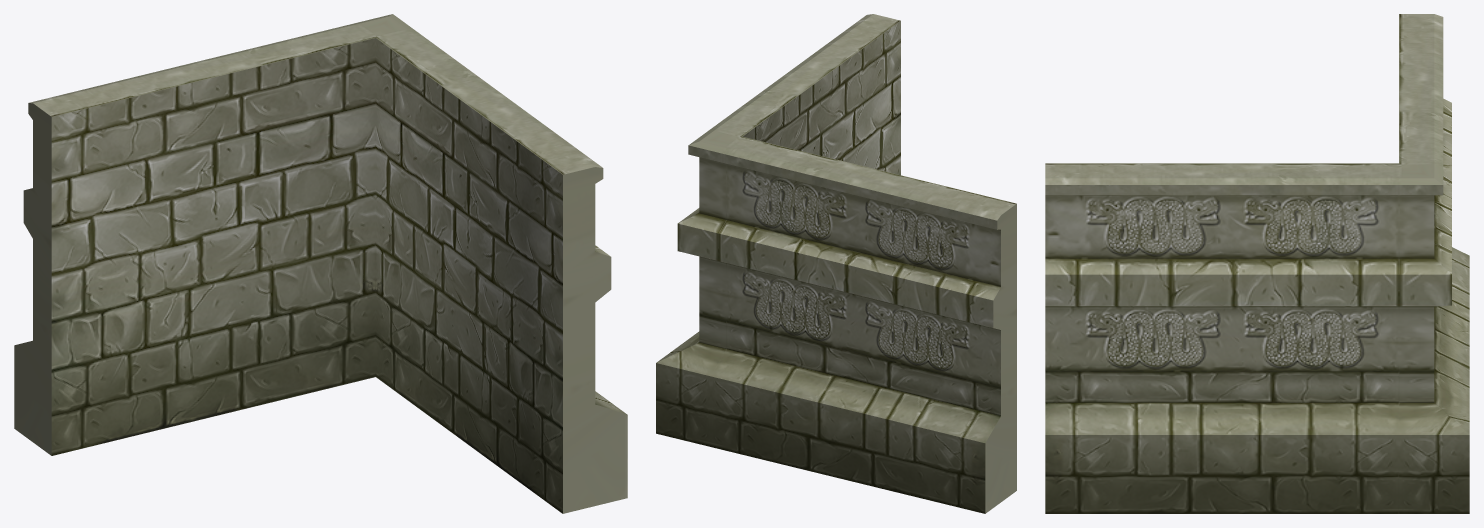
The model's file is wall_corner.FBX.
3 renders of one model, left to right at view 1: azimuth 30°, elevation 25°; view 2: azimuth 150°, elevation 25°; view 3: azimuth 270°, elevation 25°, orthographic. The views are drawn at different scales.
Parts seen in each view (by area): view 1: Wall_mirror001; view 2: Wall_mirror001; view 3: Wall_mirror001.
Part boxes in pixels (bbox=[...]): Wall_mirror001: bbox=[14, 14, 627, 513]; Wall_mirror001: bbox=[656, 14, 1016, 513]; Wall_mirror001: bbox=[1045, 14, 1469, 513].
Bounding box in the file's own units: 2.4 × 2 × 2.4.
Materials: 1 (1 with a texture image).
